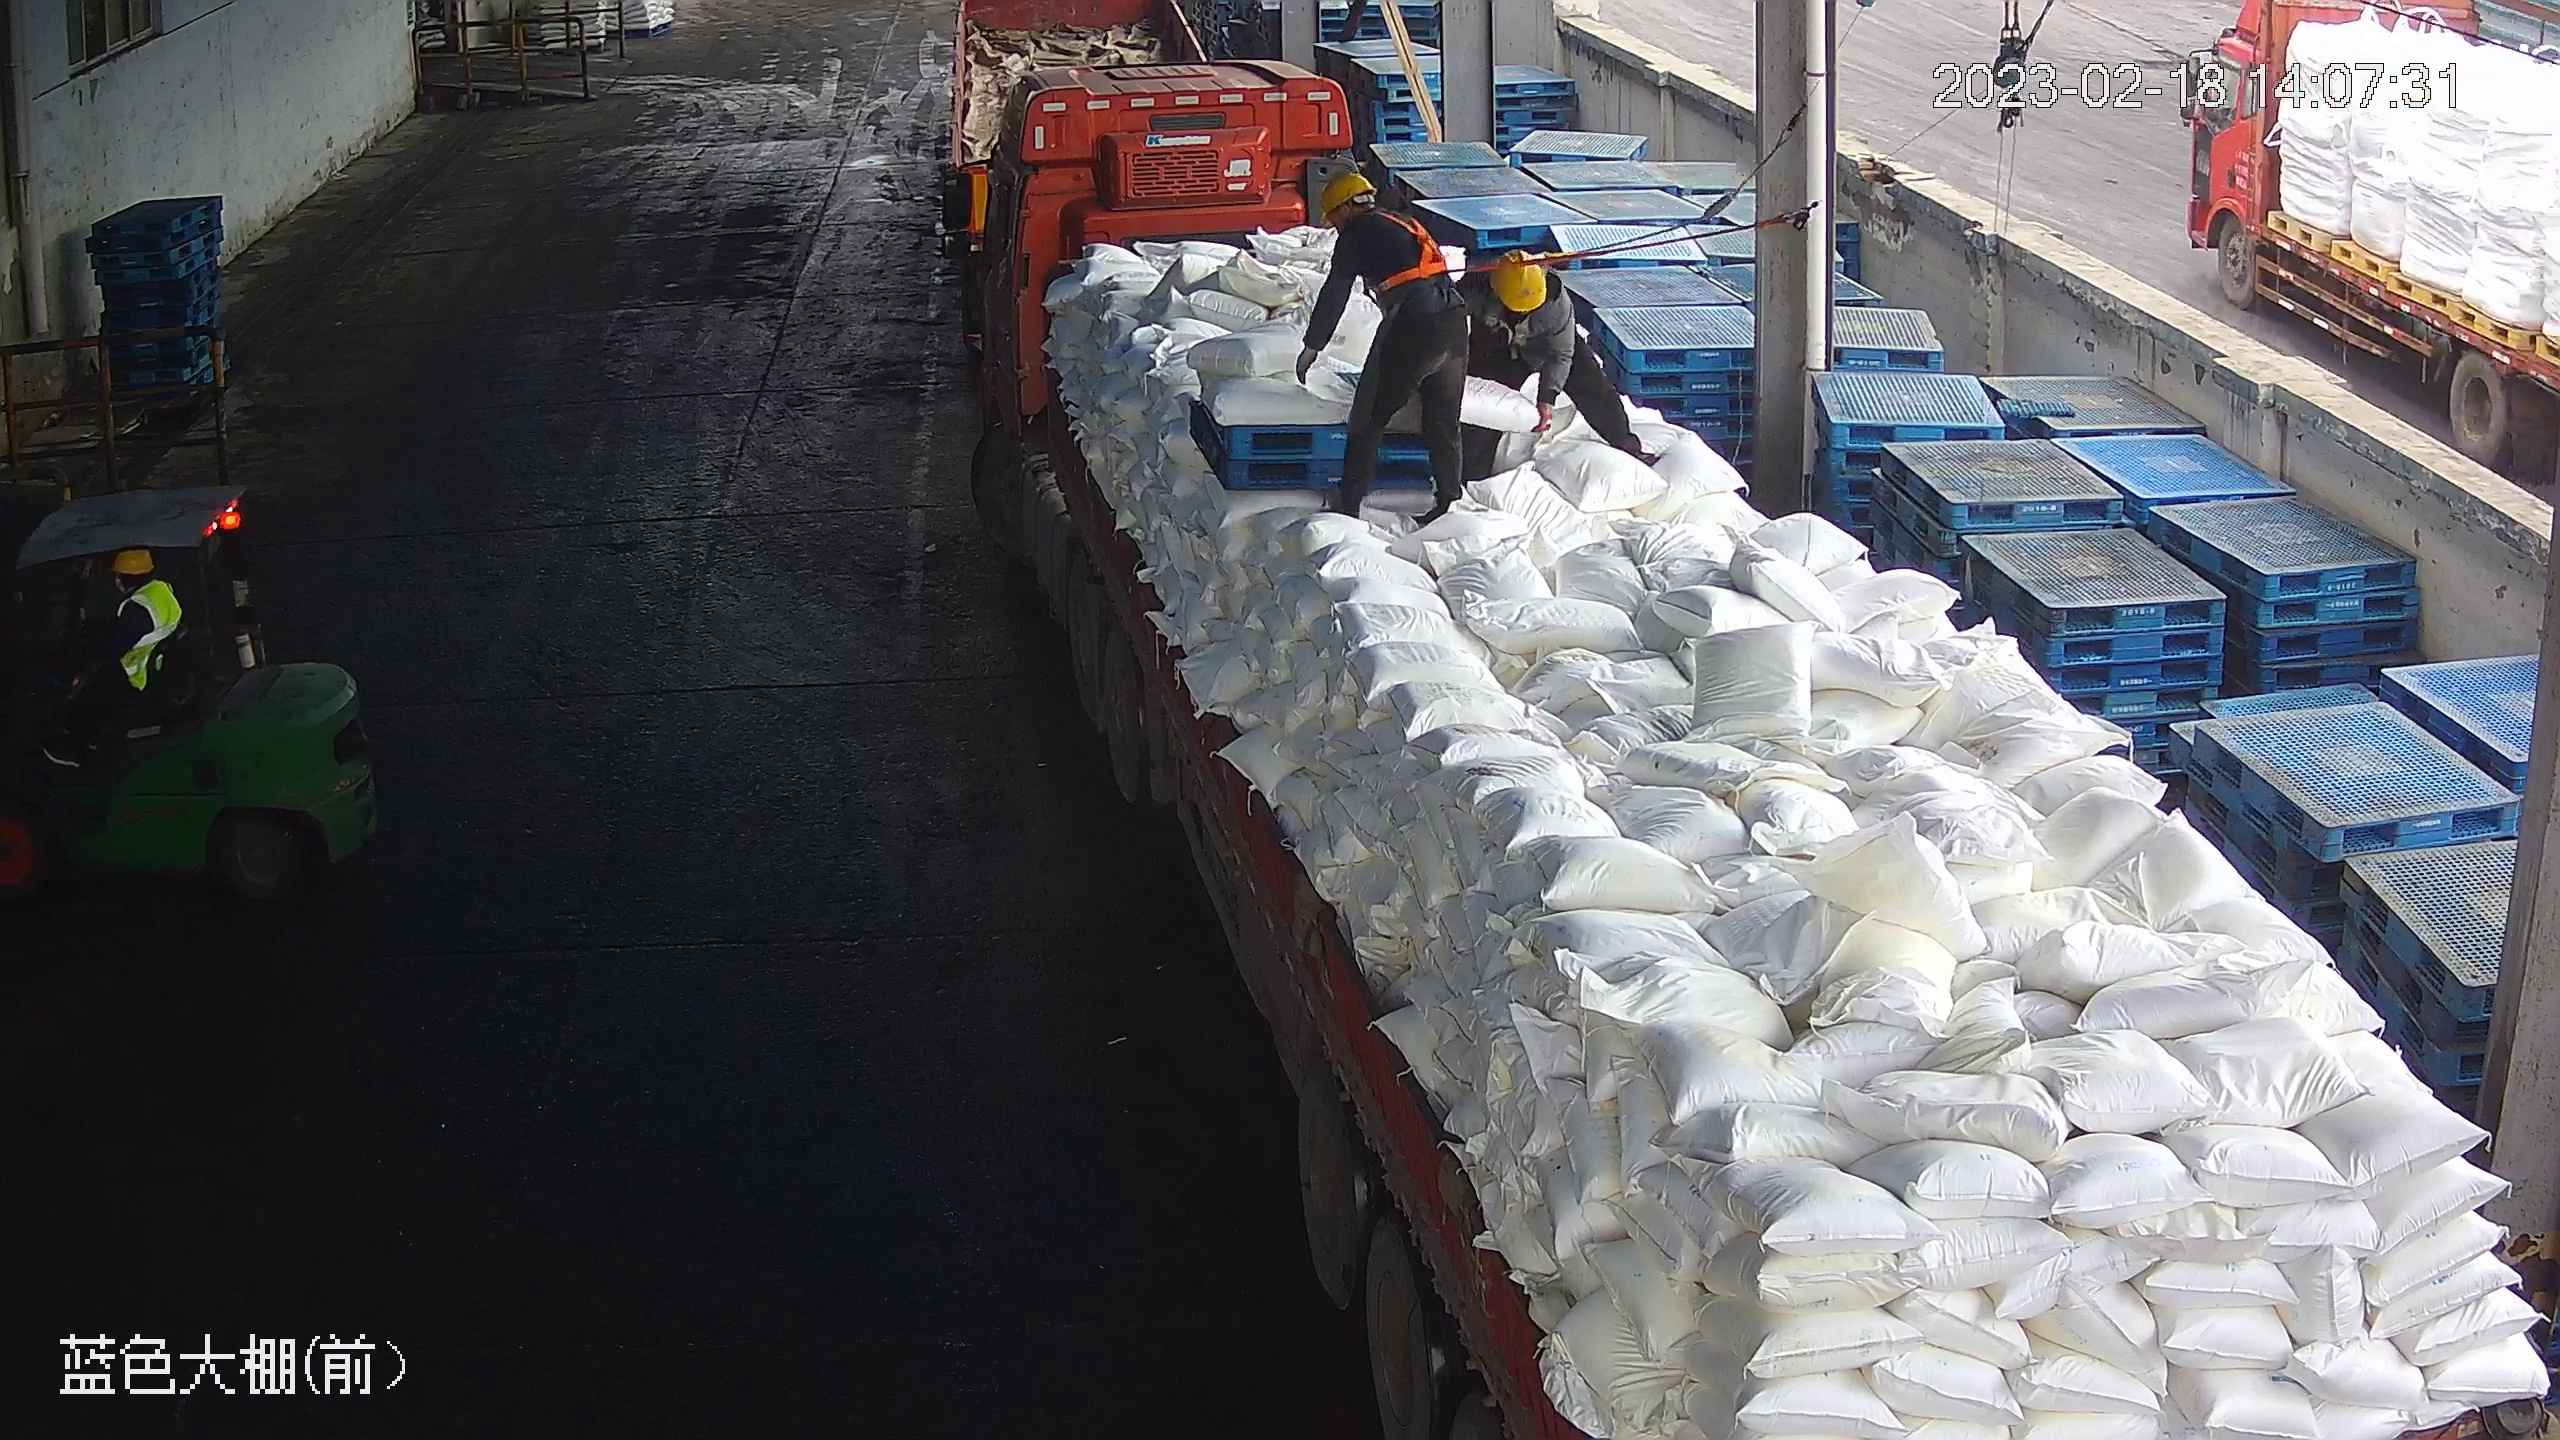belt: (1373, 201, 1462, 294)
head: (1313, 172, 1442, 283), (1469, 247, 1579, 367), (105, 547, 178, 637)
helmet: (1492, 245, 1555, 314), (1317, 171, 1386, 225), (109, 547, 157, 579)
people: (1296, 171, 1473, 533), (1451, 249, 1659, 488), (34, 546, 186, 770)
truck: (935, 57, 2560, 1440)
